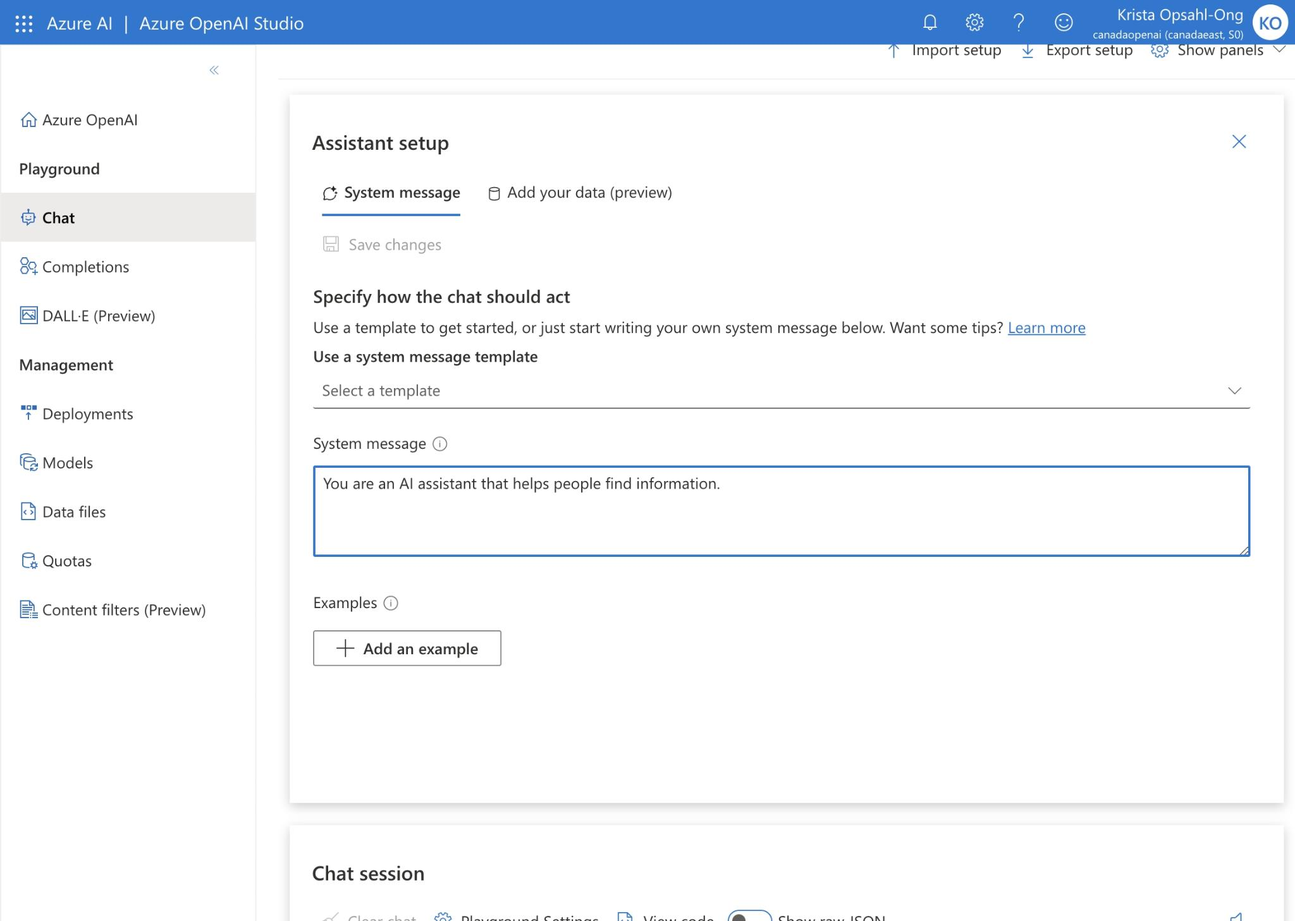webelement: (312, 215, 1249, 665), (0, 43, 255, 920), (0, 388, 254, 632), (312, 166, 1249, 215), (0, 192, 254, 338), (312, 372, 1249, 408), (0, 45, 254, 143), (312, 316, 1084, 337), (19, 95, 235, 142), (19, 193, 235, 240), (19, 241, 235, 288), (19, 291, 235, 338), (19, 389, 235, 436), (19, 438, 235, 485), (19, 487, 235, 534), (19, 536, 235, 583), (19, 46, 235, 92), (19, 585, 235, 631), (506, 166, 671, 215), (908, 0, 1085, 43), (1146, 24, 1290, 72), (317, 218, 445, 267), (881, 24, 1005, 72), (1015, 24, 1137, 72), (343, 166, 459, 215), (331, 631, 481, 664), (428, 896, 601, 921), (138, 8, 303, 34), (41, 597, 205, 620), (311, 127, 448, 154), (506, 180, 671, 201), (311, 858, 424, 884), (1116, 1, 1243, 24), (611, 896, 717, 921), (41, 303, 155, 326), (0, 352, 113, 375), (316, 896, 419, 921), (343, 180, 459, 201), (1092, 25, 1242, 41), (312, 431, 425, 452), (41, 107, 137, 131), (0, 156, 99, 179), (41, 401, 132, 424), (41, 254, 128, 277), (363, 640, 477, 655), (46, 8, 111, 34), (1006, 316, 1084, 337), (1045, 0, 1081, 43), (912, 0, 947, 43), (956, 0, 991, 43), (1001, 0, 1036, 43), (41, 499, 104, 522), (912, 40, 1000, 56), (348, 235, 440, 250), (1046, 40, 1132, 56), (312, 591, 377, 612), (1177, 40, 1262, 56), (1251, 3, 1287, 39), (1225, 116, 1251, 165), (41, 450, 93, 474), (41, 548, 90, 572), (459, 913, 597, 921), (1216, 896, 1260, 921), (10, 8, 37, 39), (41, 205, 74, 229), (1257, 9, 1281, 33), (642, 913, 713, 921), (347, 913, 414, 921), (1227, 372, 1240, 408), (431, 436, 448, 452), (383, 595, 399, 611), (387, 595, 395, 611), (122, 9, 127, 33), (436, 436, 443, 452)
